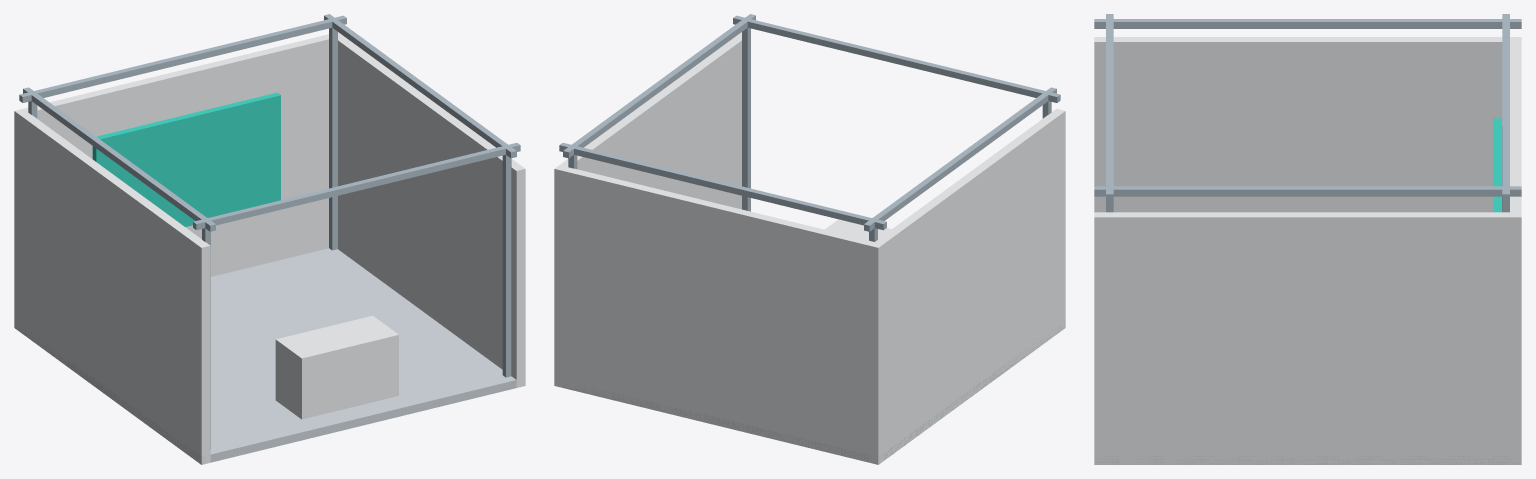
3 renders of one model, left to right at view 1: azimuth 30°, elevation 25°; view 2: azimuth 150°, elevation 25°; view 3: azimuth 270°, elevation 25°, orthographic. The views are drawn at different scales.
Visible parts, largest first — view 1: Exhibition Booth Concept; view 2: Exhibition Booth Concept; view 3: Exhibition Booth Concept.
Part boxes in pixels (x1,y1,x2,y2): Exhibition Booth Concept: (14, 14, 525, 464); Exhibition Booth Concept: (554, 14, 1065, 464); Exhibition Booth Concept: (1094, 14, 1521, 464).
Size of the model in its own units: 5 by 3.49 by 5.
